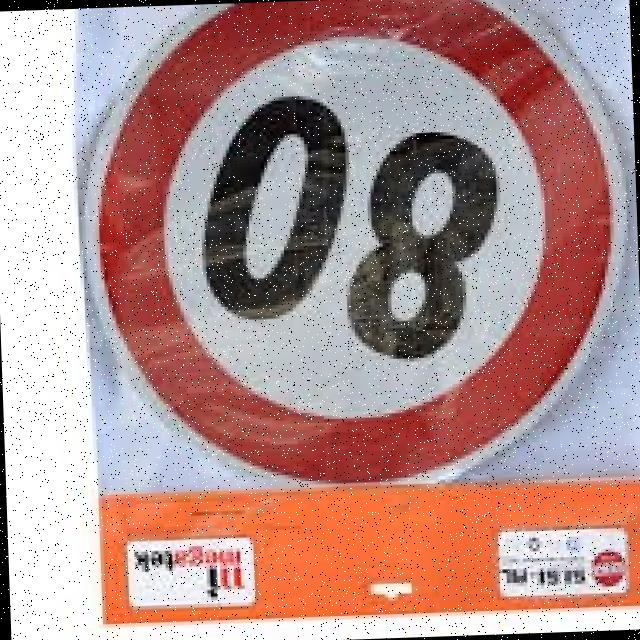speed_limit_80: (74, 0, 639, 501)
